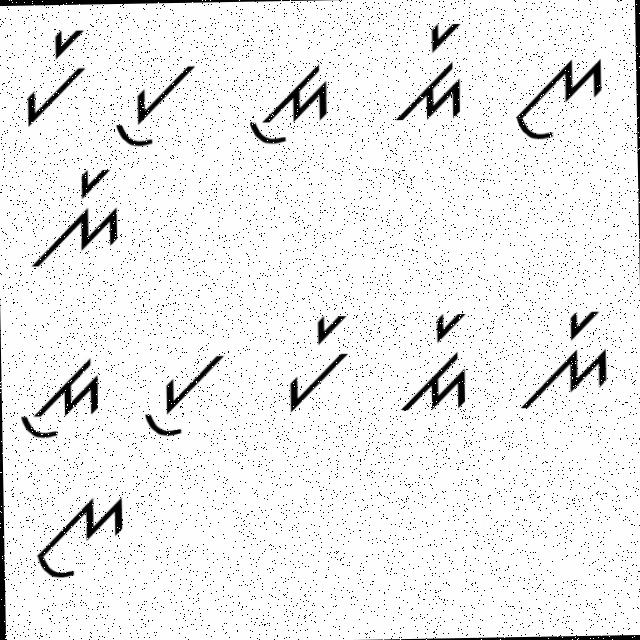dar: (389, 12, 480, 123), (394, 310, 480, 416)
daw: (10, 342, 101, 445), (243, 59, 340, 146)
nar: (516, 297, 622, 418), (23, 162, 128, 274)
naw: (29, 486, 134, 594), (507, 42, 610, 151)
par: (268, 308, 358, 416), (11, 21, 89, 126)
paw: (139, 339, 236, 444), (109, 48, 194, 150)
